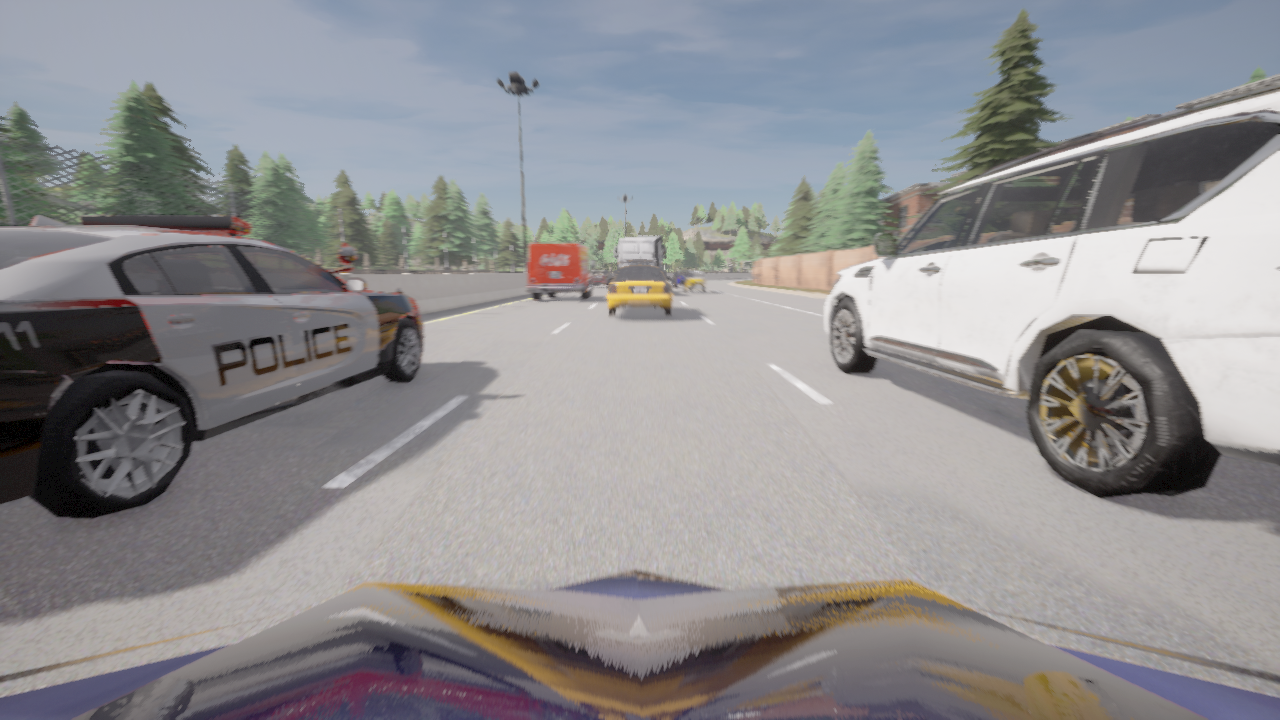cyclist: (0, 569, 1279, 719), (824, 85, 1279, 498), (0, 215, 422, 519), (527, 243, 595, 300), (607, 261, 672, 316), (614, 237, 665, 276), (684, 271, 706, 292), (589, 270, 611, 287), (672, 270, 689, 288)
